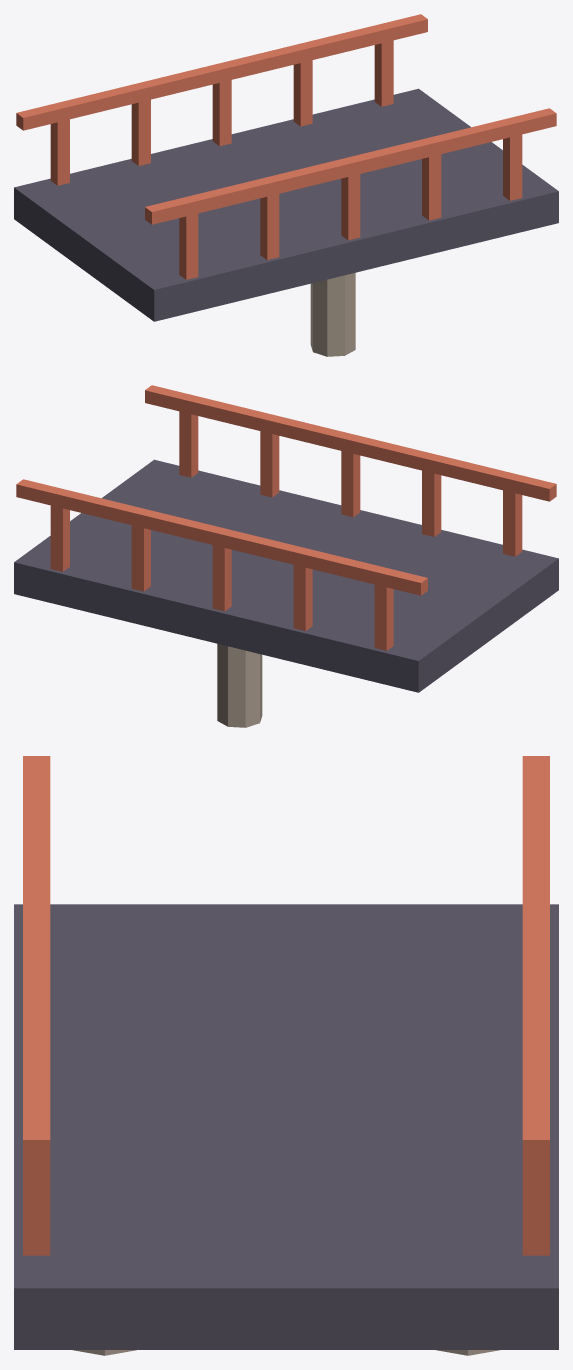
The model's file is bridge_straight_v02.glb.
3 renders of one model, top to bottom at view 1: azimuth 30°, elevation 25°; view 2: azimuth 150°, elevation 25°; view 3: azimuth 270°, elevation 25°, orthographic. The views are drawn at different scales.
Parts seen in each view (by area): view 1: Bridge_Straight_v02; view 2: Bridge_Straight_v02; view 3: Bridge_Straight_v02.
Boxes of the visible parts, x1=… form: Bridge_Straight_v02: x1=14, y1=14, x2=558, y2=356; Bridge_Straight_v02: x1=14, y1=385, x2=558, y2=727; Bridge_Straight_v02: x1=14, y1=756, x2=558, y2=1355.
Size of the model in its own units: 24 by 11.33 by 14.4.
